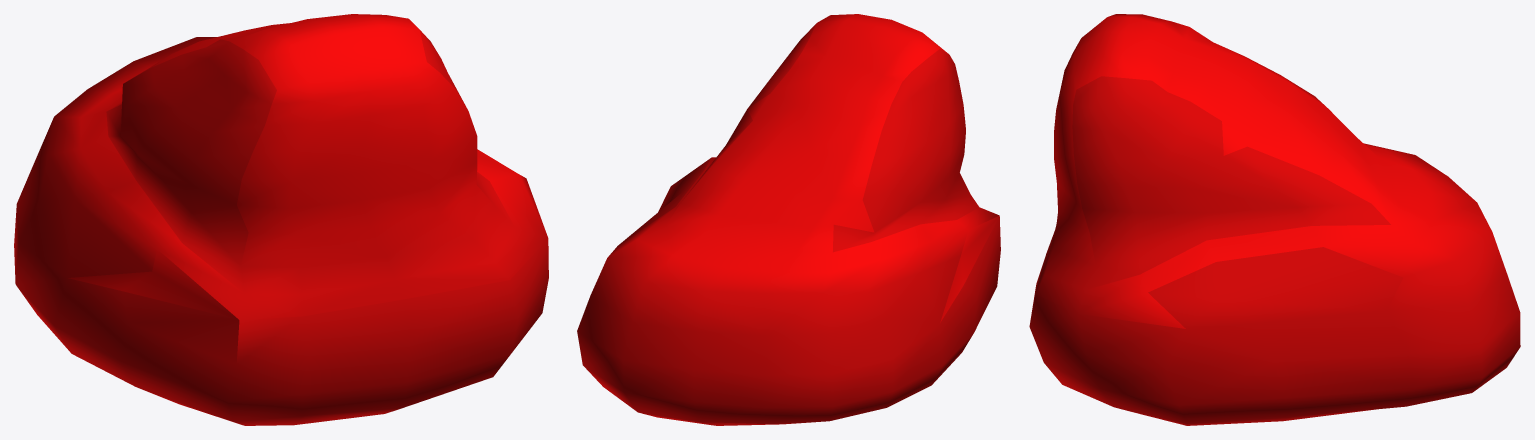
File: geology-rocks-whiterock_v6.fbx
The picture shows the model from 3 angles, left to right: view 1: azimuth 30°, elevation 25°; view 2: azimuth 150°, elevation 25°; view 3: azimuth 270°, elevation 25°; orthographic projection. The views are drawn at different scales.
Visible parts, largest first — view 1: WhiteRock_v6; view 2: WhiteRock_v6; view 3: WhiteRock_v6.
Boxes of the visible parts, x1,y1,x2,y2 form: WhiteRock_v6: (14, 14, 548, 425); WhiteRock_v6: (577, 14, 1000, 425); WhiteRock_v6: (1029, 14, 1520, 425).
Size of the model in its own units: 7.16 by 6.59 by 8.7.
